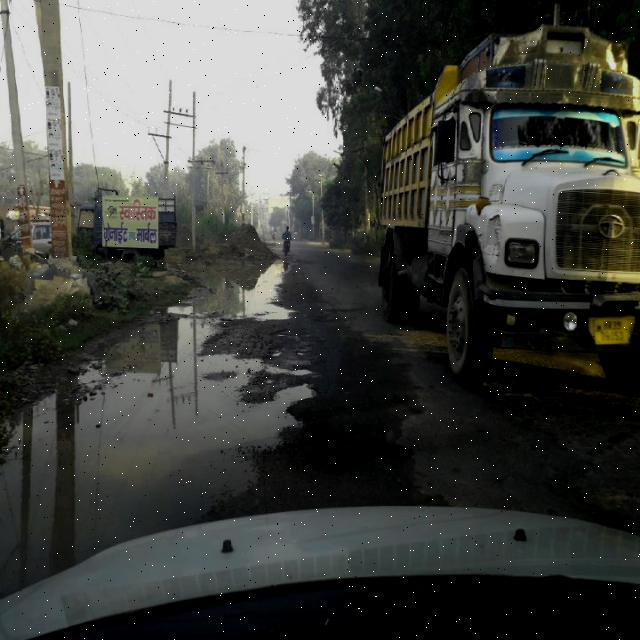D40: (0, 272, 340, 508)
